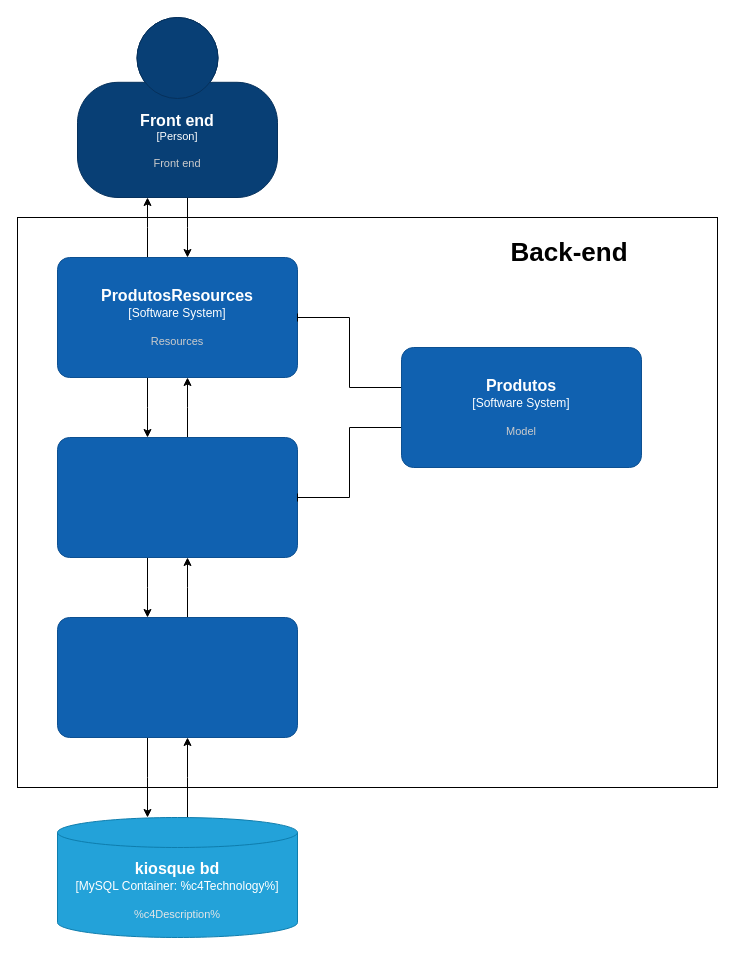
This 735x955 diagram has some shape labels left out. The box of each missing label's shape, as (x1, y1, x2, y2) in pixels:
ProdutosRepository [Software System] Repository: (56, 616, 298, 738)
ProdutosServices [Software System] Services: (56, 436, 298, 558)
